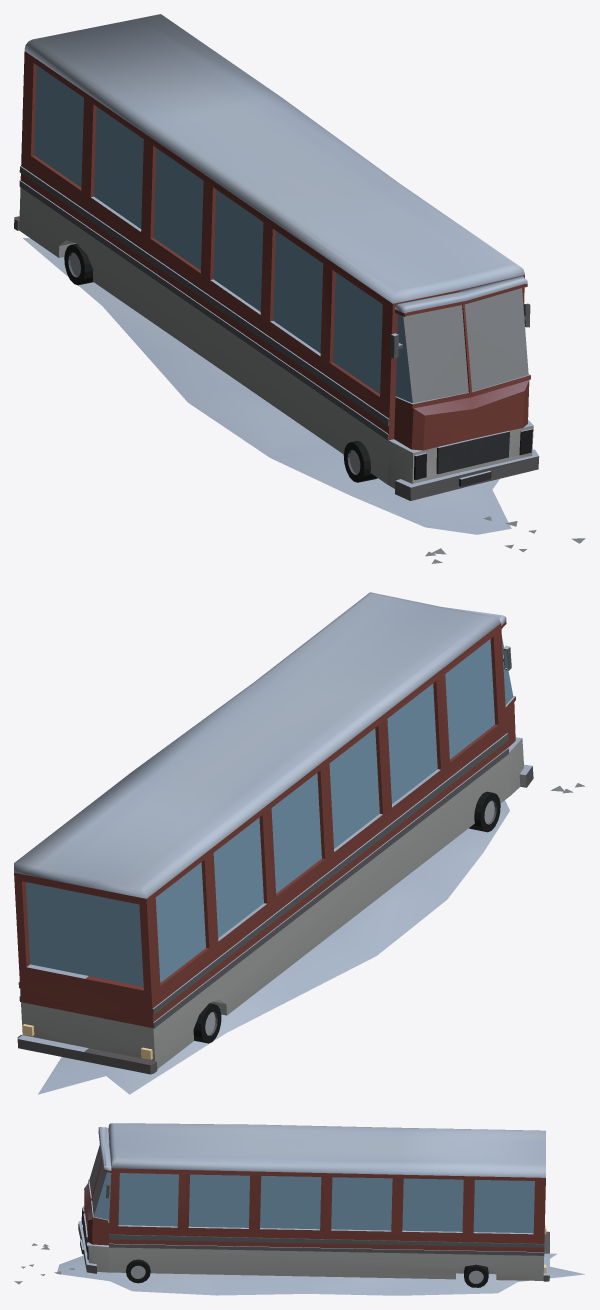
The model's file is bus_crashed.glb.
3 renders of one model, top to bottom at view 1: azimuth 30°, elevation 25°; view 2: azimuth 150°, elevation 25°; view 3: azimuth 270°, elevation 25°, orthographic. The views are drawn at different scales.
Parts seen in each view (by area): view 1: Body, Glass; view 2: Body, Glass; view 3: Body, Glass.
Boxes of the visible parts, bbox=[...] form: Body: bbox=[14, 14, 585, 563]; Glass: bbox=[34, 65, 412, 402]; Body: bbox=[14, 592, 584, 1094]; Glass: bbox=[26, 637, 513, 986]; Body: bbox=[14, 1123, 584, 1295]; Glass: bbox=[94, 1172, 534, 1233].
Bounding box in the file's own units: 3.22 × 3.56 × 14.15.
